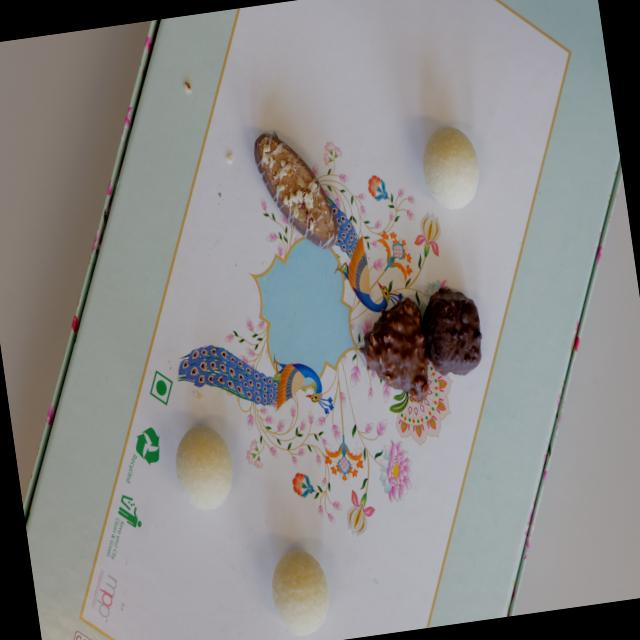Amandina: (251, 124, 341, 253)
Comtesse: (267, 545, 336, 640), (172, 420, 238, 514), (418, 123, 486, 213)
Tentation_noir: (419, 284, 488, 382)
Triangolo: (357, 295, 436, 408)
